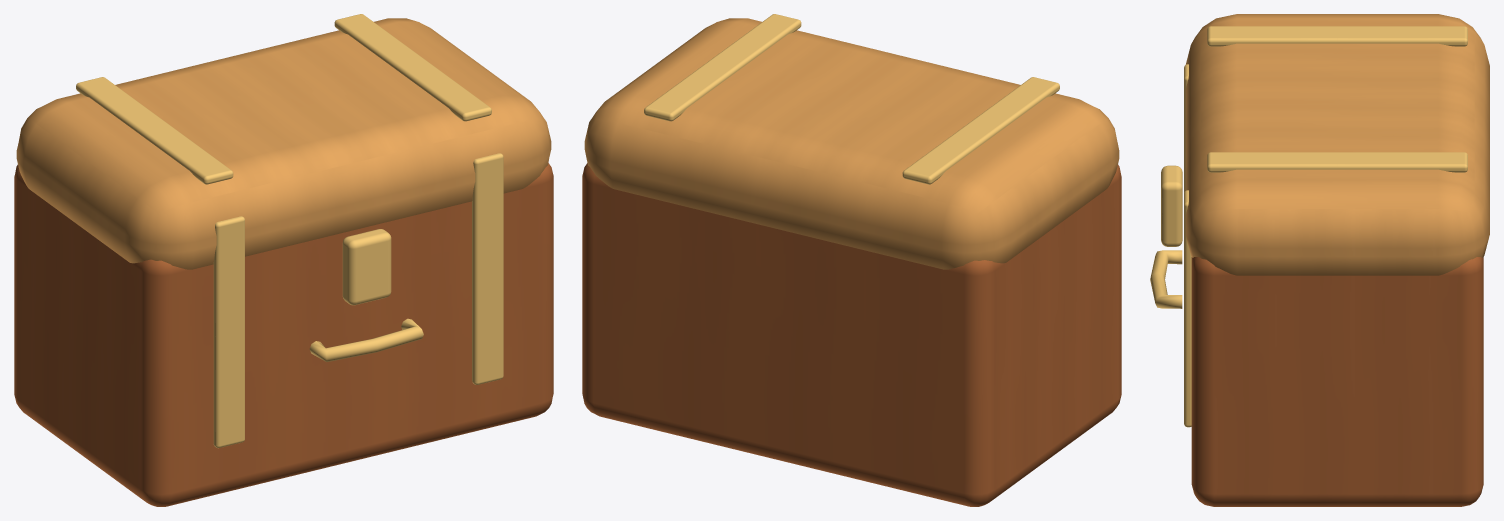
The model's file is CHEST.glb.
The picture shows the model from 3 angles, left to right: view 1: azimuth 30°, elevation 25°; view 2: azimuth 150°, elevation 25°; view 3: azimuth 270°, elevation 25°; orthographic projection.
Parts seen in each view (by area): view 1: CHEST; view 2: CHEST; view 3: CHEST.
Part boxes in pixels (x1,y1,x2,y2): CHEST: [14, 14, 553, 506]; CHEST: [582, 14, 1121, 506]; CHEST: [1150, 14, 1489, 506].
Size of the model in its own units: 0.78 by 0.5675 by 0.547.
3 materials, 2 textured.
